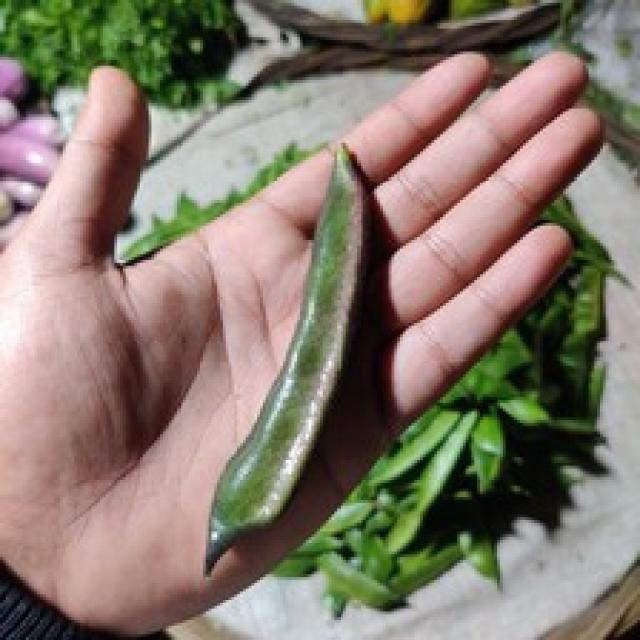Bean: (203, 140, 371, 574)
